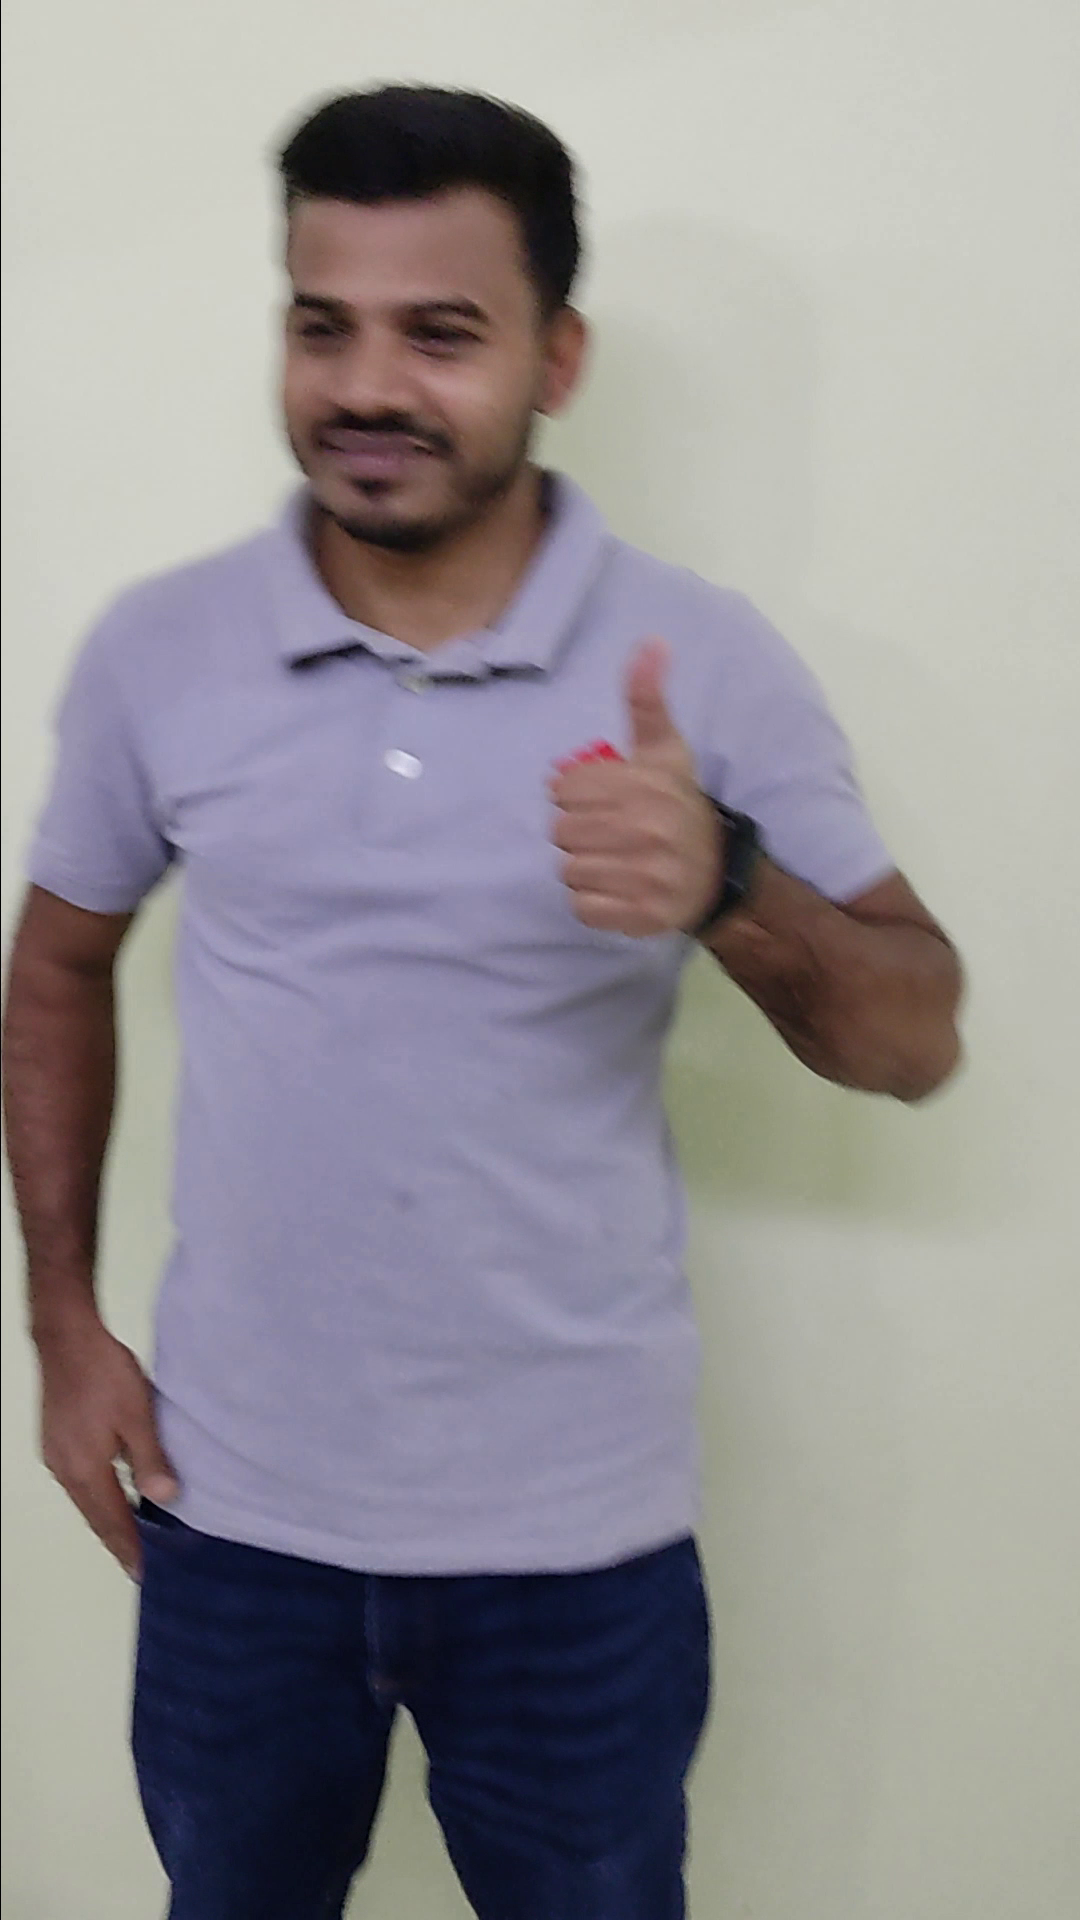Like: (535, 618, 762, 956)
None: (18, 1294, 193, 1597)
